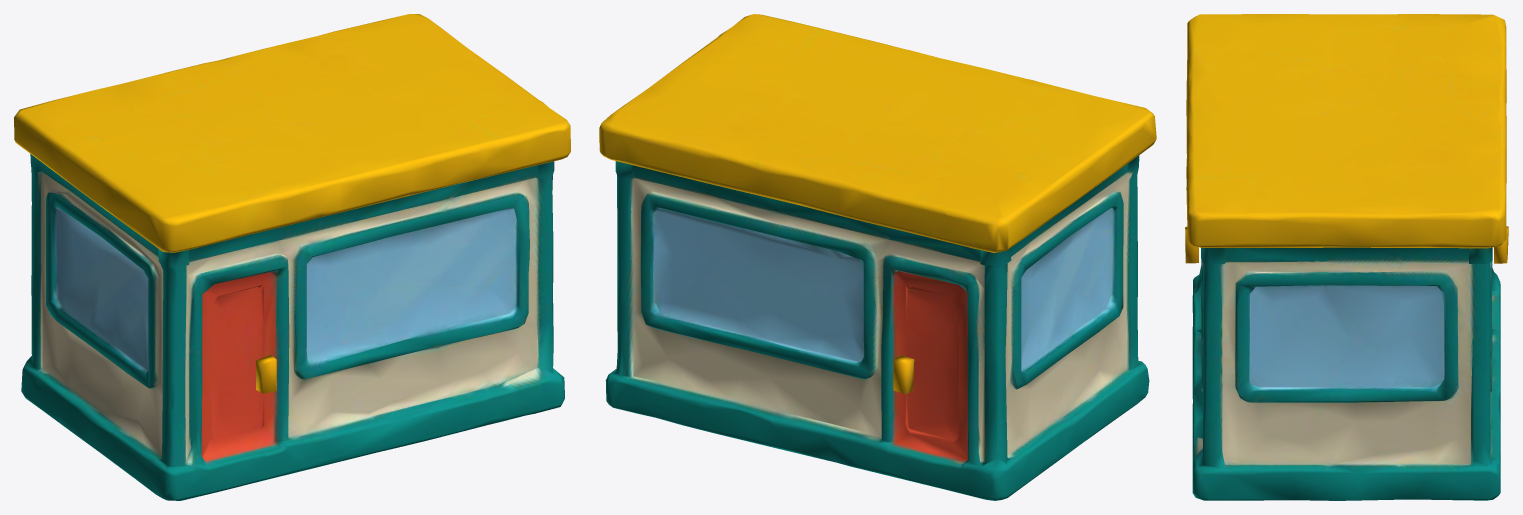
Rendered from factory-foreman-booth.glb.
3 renders of one model, left to right at view 1: azimuth 30°, elevation 25°; view 2: azimuth 150°, elevation 25°; view 3: azimuth 270°, elevation 25°, orthographic.
Parts seen in each view (by area): view 1: factory-foreman-booth; view 2: factory-foreman-booth; view 3: factory-foreman-booth.
Part boxes in pixels (bbox=[...]): factory-foreman-booth: bbox=[14, 14, 570, 500]; factory-foreman-booth: bbox=[599, 14, 1156, 500]; factory-foreman-booth: bbox=[1185, 14, 1508, 500].
Size of the model in its own units: 3.85 by 2.6 by 2.59.
Materials: 1 (1 with a texture image).
